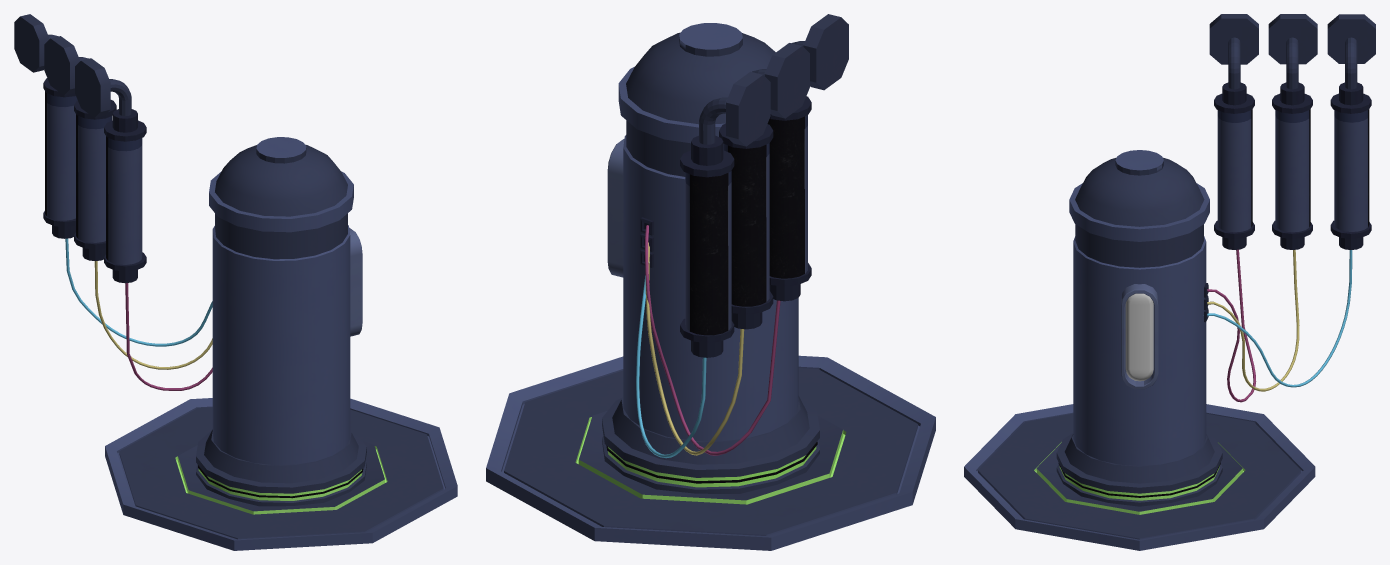
Rendered from blendingtube.fbx.
The picture shows the model from 3 angles, left to right: view 1: azimuth 30°, elevation 25°; view 2: azimuth 150°, elevation 25°; view 3: azimuth 270°, elevation 25°; orthographic projection. The views are drawn at different scales.
Parts seen in each view (by area): view 1: pasted__polySurface2761, pasted__polySurface2751, pasted__polySurface281, pasted__polySurface283, pasted__polySurface282, pasted__polySurface259, emissive, pasted__polySurface268Shape, pasted__polySurface247Shape, pasted__polySurface262Shape; view 2: pasted__polySurface2761, pasted__polySurface2751, pasted__polySurface283, pasted__polySurface282, pasted__polySurface281, pasted__polySurface259, pasted__polySurface262Shape, emissive, pasted__polySurface247Shape, pasted__polySurface268Shape; view 3: pasted__polySurface2761, pasted__polySurface2751, pasted__polySurface259, pasted__polySurface282, pasted__polySurface281, pasted__polySurface283, pasted__polySurface135, emissive, pasted__polySurface268Shape, pasted__polySurface262Shape, pasted__polySurface247Shape.
Part boxes in pixels (x1,y1,x2,y2): pasted__polySurface2761: (105,137,457,550); pasted__polySurface2751: (14,14,131,117); pasted__polySurface281: (106,136,142,264); pasted__polySurface283: (45,91,77,220); pasted__polySurface282: (76,114,112,242); pasted__polySurface259: (43,78,146,283); emissive: (198,469,362,500); pasted__polySurface268Shape: (65,238,212,346); pasted__polySurface247Shape: (94,261,212,369); pasted__polySurface262Shape: (125,283,212,390); pasted__polySurface2761: (486,23,935,550); pasted__polySurface2751: (699,14,848,146); pasted__polySurface283: (685,171,731,335); pasted__polySurface282: (723,143,769,306); pasted__polySurface281: (767,115,807,278); pasted__polySurface259: (680,96,811,357); pasted__polySurface262Shape: (645,225,780,455); emissive: (608,446,816,487); pasted__polySurface247Shape: (645,242,744,455); pasted__polySurface268Shape: (636,262,706,458); pasted__polySurface2761: (964,150,1315,550); pasted__polySurface2751: (1209,14,1375,89); pasted__polySurface259: (1214,82,1371,249); pasted__polySurface282: (1275,109,1310,232); pasted__polySurface281: (1217,109,1252,232); pasted__polySurface283: (1334,109,1369,231); pasted__polySurface135: (1125,293,1153,381); emissive: (1059,466,1219,500); pasted__polySurface268Shape: (1207,250,1352,387); pasted__polySurface262Shape: (1207,249,1256,402); pasted__polySurface247Shape: (1207,250,1299,391).
Size of the model in its own units: 32.16 by 39.87 by 37.7.
